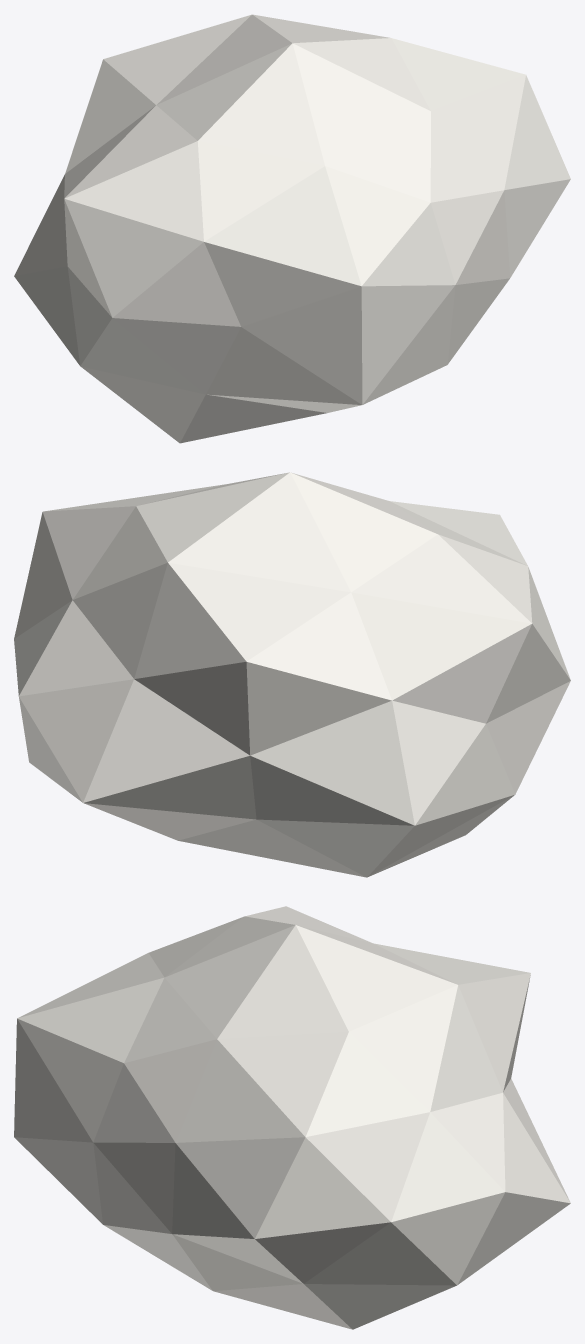
File: deco_pebble_white.obj
3 views of the same model, one above another, from view 1: azimuth 30°, elevation 25°; view 2: azimuth 150°, elevation 25°; view 3: azimuth 270°, elevation 25° (orthographic).
Visible parts, largest first — view 1: deco_pebble_white; view 2: deco_pebble_white; view 3: deco_pebble_white.
Boxes of the visible parts, x1,y1,x2,y2 form: deco_pebble_white: [14, 14, 570, 443]; deco_pebble_white: [14, 472, 570, 877]; deco_pebble_white: [14, 906, 570, 1329].
Size of the model in its own units: 0.0481 by 0.0331 by 0.0466.
Materials: 1 (1 with a texture image).
